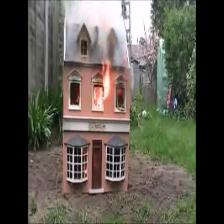fire: (94, 61, 110, 106)
